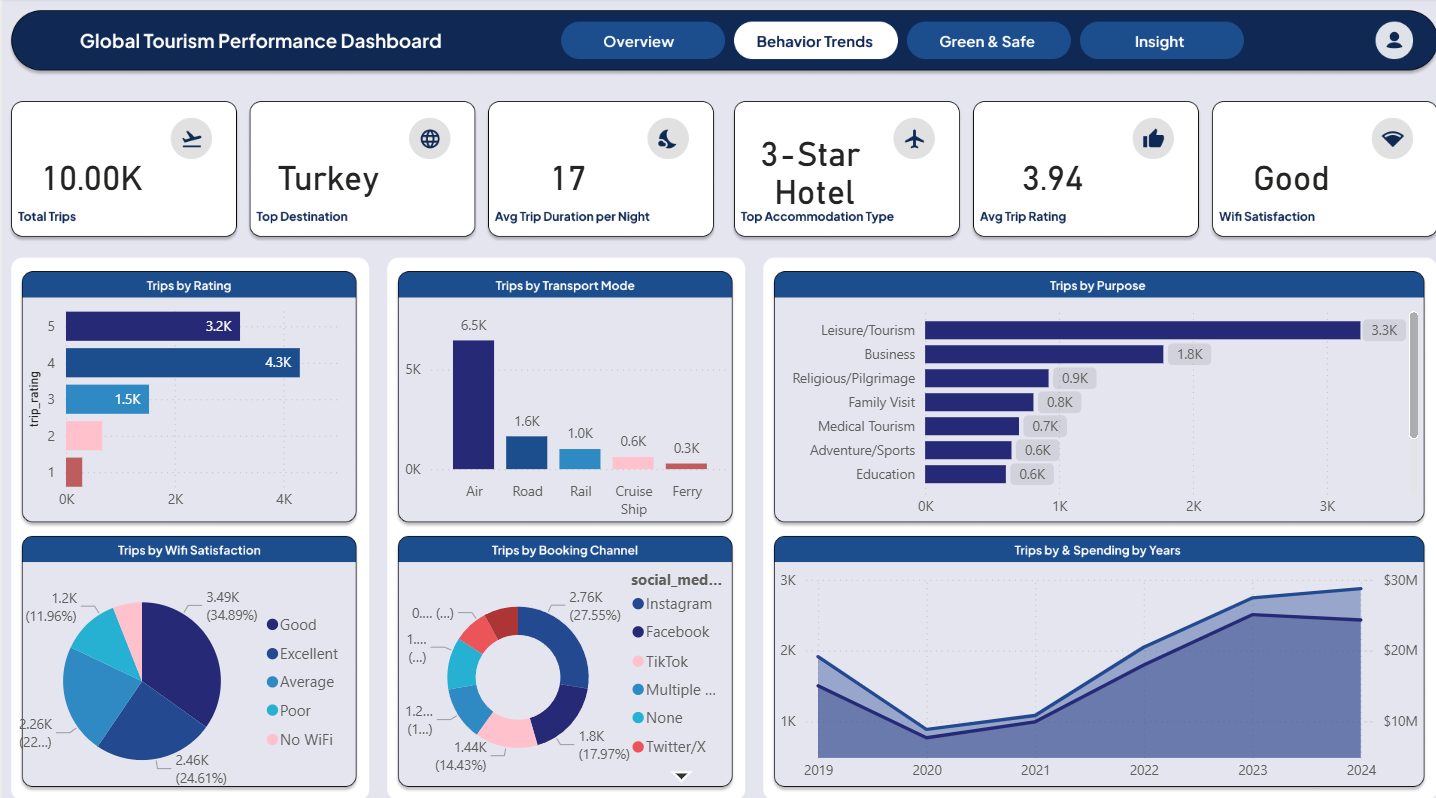

The page's visual inventory and layout, read from the dashboard file:
{"tool":"powerbi","page":{"name":"Behavior","canvas":[1280,720],"ordinal":1},"visuals":[{"type":"columnChart","fields":{"Category":["public tourism_cleaned_portfolio.travel_purpose"],"Y":["CountNonNull(public tourism_cleaned_portfolio.trip_id)"]},"box":[176.2,233.1,541.5,217.7],"z":0},{"type":"columnChart","fields":{"Category":["public tourism_cleaned_portfolio.trip_rating"],"Y":["CountNonNull(public tourism_cleaned_portfolio.trip_id)"]},"box":[733,233,540,218],"z":1000},{"type":"barChart","fields":{"Category":["public tourism_cleaned_portfolio.transport_mode"],"Y":["CountNonNull(public tourism_cleaned_portfolio.trip_id)"]},"box":[176,480,271,229],"z":2000},{"type":"pieChart","fields":{"Y":["CountNonNull(public tourism_cleaned_portfolio.trip_id)"],"Category":["public tourism_cleaned_portfolio.wifi_satisfaction"]},"box":[447,480,271,229],"z":3000},{"type":"areaChart","fields":{"Category":["public tourism_cleaned_portfolio.year"],"Y":["CountNonNull(public tourism_cleaned_portfolio.trip_id)"],"Y2":["Sum(public tourism_cleaned_portfolio.total_trip_spend_usd)"]},"box":[740,480,540,229.2],"z":4000},{"type":"card","title":"Total Travelers","fields":{"Values":["Min(public tourism_cleaned_portfolio.accommodation_type)"]},"box":[764.5,106.4,126.4,81.8],"z":5000},{"type":"card","fields":{"Values":["Avg(public tourism_cleaned_portfolio.duration_nights)"]},"box":[582.7,106.4,101.8,81.8],"z":6000},{"type":"card","fields":{"Values":["Avg(public tourism_cleaned_portfolio.trip_rating)"]},"box":[948.2,105.5,120.9,82.7],"z":7000},{"type":"card","fields":{"Values":["Min(public tourism_cleaned_portfolio.wifi_satisfaction)"]},"box":[1130.9,105.5,125.5,83.6],"z":8000},{"type":"card","fields":{"Values":["CountNonNull(public tourism_cleaned_portfolio.trip_id)"]},"box":[212.7,107.3,123.6,81.8],"z":9000},{"type":"card","fields":{"Values":["Min(public tourism_cleaned_portfolio.destination_country)"]},"box":[396.4,106.4,120.9,81.8],"z":10000},{"type":"slicer","fields":{"Values":["public tourism_cleaned_portfolio.traveler_type"]},"box":[9.1,551.8,151.8,75.5],"z":11000},{"type":"slicer","fields":{"Values":["public tourism_cleaned_portfolio.travel_insurance"]},"box":[9.1,493.6,151.8,58.2],"z":12000},{"type":"slicer","fields":{"Values":["public tourism_cleaned_portfolio.booking_channel"]},"box":[9.1,627.3,151.8,73.6],"z":13000}]}

Visuals, with their boxes in screenshot pixels (x1, y1, x2, y2), scaled from the page's 1280x720 canvas onto the 1436x798 screenshot:
columnChart - public tourism_cleaned_portfolio.travel_purpose x CountNonNull(public tourism_cleaned_portfolio.trip_id): x1=198, y1=258, x2=805, y2=500
columnChart - public tourism_cleaned_portfolio.trip_rating x CountNonNull(public tourism_cleaned_portfolio.trip_id): x1=822, y1=258, x2=1428, y2=500
barChart - public tourism_cleaned_portfolio.transport_mode x CountNonNull(public tourism_cleaned_portfolio.trip_id): x1=197, y1=532, x2=501, y2=786
pieChart - CountNonNull(public tourism_cleaned_portfolio.trip_id) x public tourism_cleaned_portfolio.wifi_satisfaction: x1=501, y1=532, x2=806, y2=786
areaChart - public tourism_cleaned_portfolio.year x CountNonNull(public tourism_cleaned_portfolio.trip_id): x1=830, y1=532, x2=1435, y2=786
"Total Travelers" card: x1=858, y1=118, x2=999, y2=209
card - Avg(public tourism_cleaned_portfolio.duration_nights): x1=654, y1=118, x2=768, y2=209
card - Avg(public tourism_cleaned_portfolio.trip_rating): x1=1064, y1=117, x2=1199, y2=209
card - Min(public tourism_cleaned_portfolio.wifi_satisfaction): x1=1269, y1=117, x2=1410, y2=210
card - CountNonNull(public tourism_cleaned_portfolio.trip_id): x1=239, y1=119, x2=377, y2=210
card - Min(public tourism_cleaned_portfolio.destination_country): x1=445, y1=118, x2=580, y2=209
slicer - public tourism_cleaned_portfolio.traveler_type: x1=10, y1=612, x2=181, y2=695
slicer - public tourism_cleaned_portfolio.travel_insurance: x1=10, y1=547, x2=181, y2=612
slicer - public tourism_cleaned_portfolio.booking_channel: x1=10, y1=695, x2=181, y2=777
